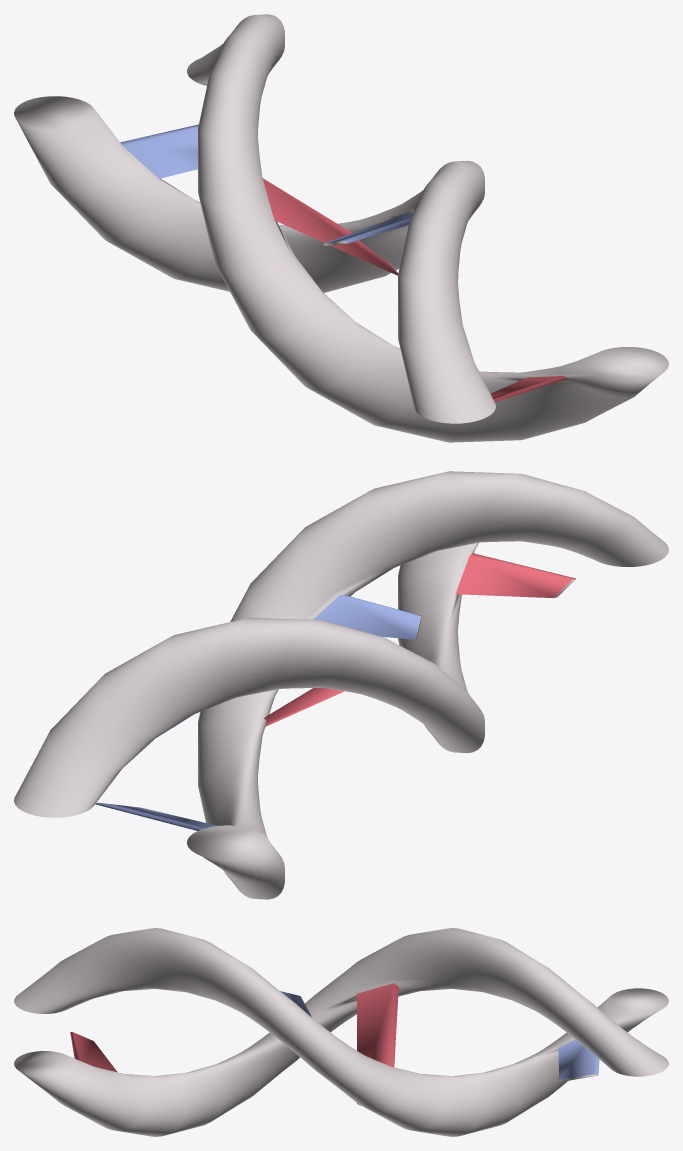
File: dna.fbx
3 renders of one model, top to bottom at view 1: azimuth 30°, elevation 25°; view 2: azimuth 150°, elevation 25°; view 3: azimuth 270°, elevation 25°, orthographic. The views are drawn at different scales.
Parts seen in each view (by area): view 1: Circle; view 2: Circle; view 3: Circle.
Boxes of the visible parts, bbox=[...] form: Circle: bbox=[14, 14, 668, 442]; Circle: bbox=[14, 471, 668, 899]; Circle: bbox=[14, 928, 668, 1136].
Size of the model in its own units: 171 by 171 by 537.
